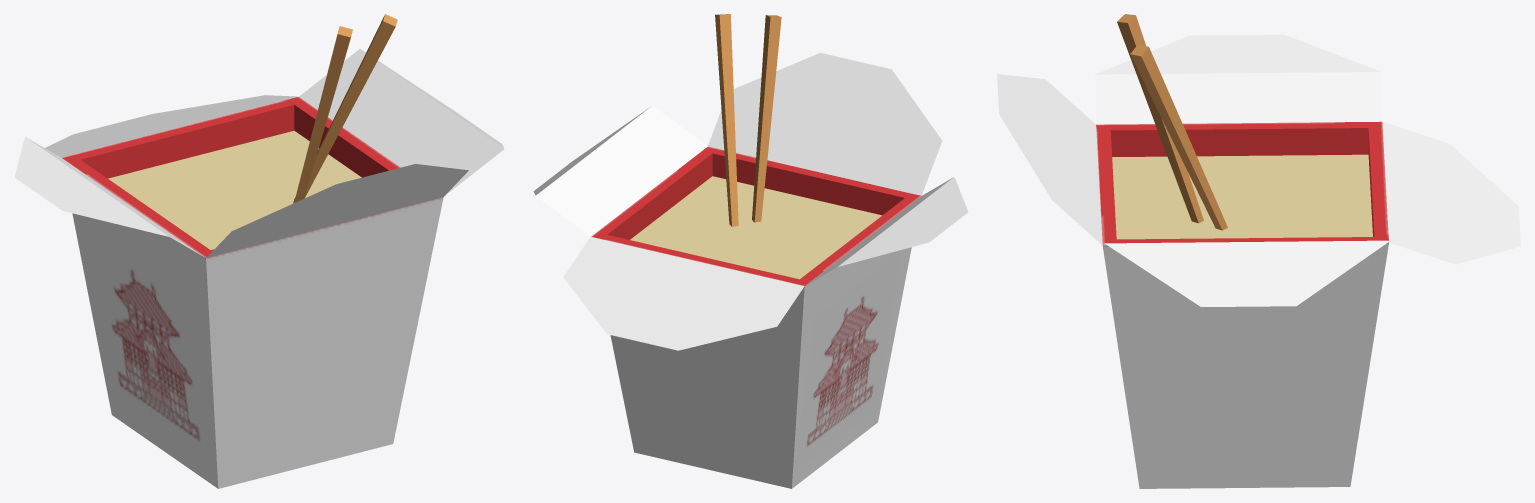
File: chinese.fbx
3 views of the same model, side by side, from view 1: azimuth 30°, elevation 25°; view 2: azimuth 150°, elevation 25°; view 3: azimuth 270°, elevation 25° (orthographic). The views are drawn at different scales.
Parts seen in each view (by area): view 1: Noodles_SM; view 2: Noodles_SM; view 3: Noodles_SM.
Boxes of the visible parts, bbox=[...] form: Noodles_SM: bbox=[14, 14, 504, 488]; Noodles_SM: bbox=[533, 14, 968, 488]; Noodles_SM: bbox=[997, 14, 1520, 488].
Bounding box in the file's own units: 89.26 × 82.52 × 87.88.
